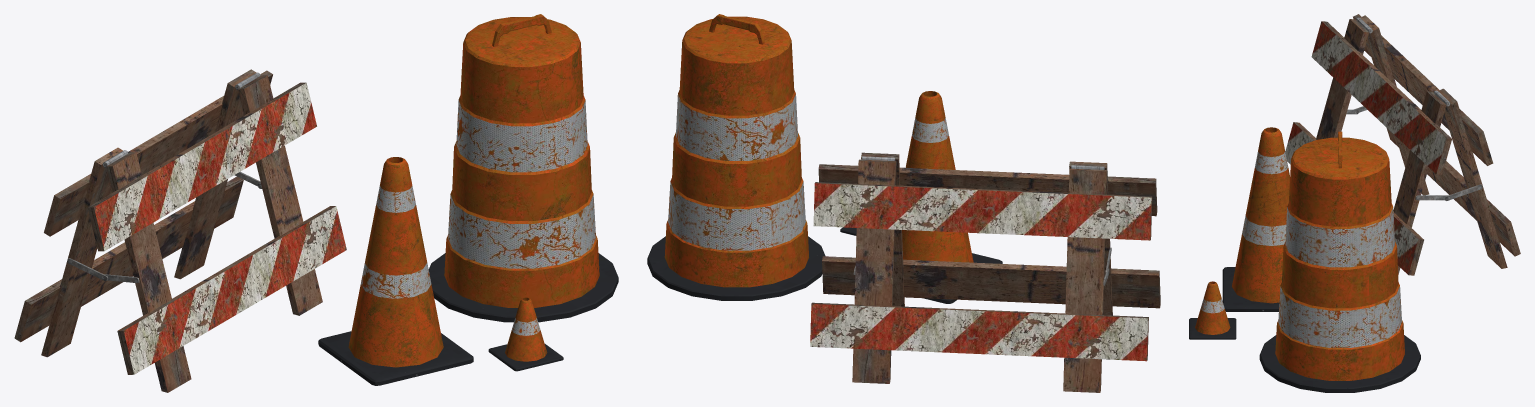
File: conos.glb
The picture shows the model from 3 angles, left to right: view 1: azimuth 30°, elevation 25°; view 2: azimuth 150°, elevation 25°; view 3: azimuth 270°, elevation 25°; orthographic projection. The views are drawn at different scales.
Visible parts, largest first — view 1: Cone-Small_Material.001_0; view 2: Cone-Small_Material.001_0; view 3: Cone-Small_Material.001_0.
Boxes of the visible parts, x1=… form: Cone-Small_Material.001_0: x1=14, y1=14, x2=618, y2=392; Cone-Small_Material.001_0: x1=647, y1=14, x2=1160, y2=392; Cone-Small_Material.001_0: x1=1189, y1=14, x2=1520, y2=392.
Size of the model in its own units: 2.88 by 1.3 by 1.78.
1 material, 1 textured.
